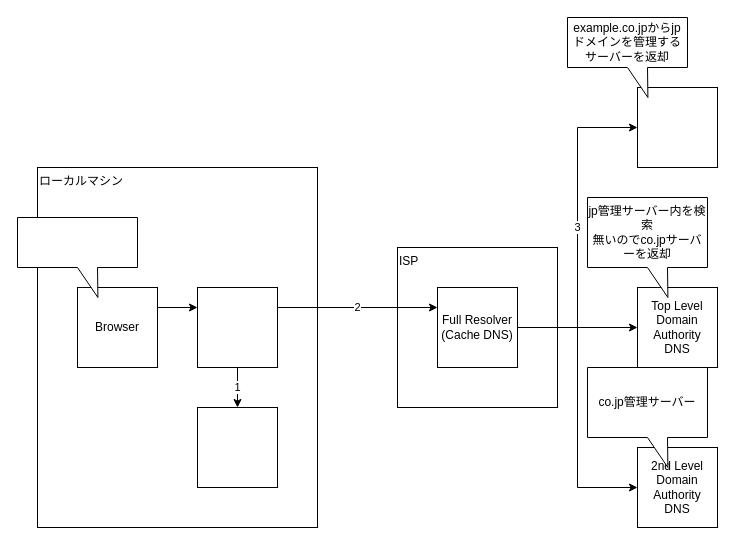
Some shapes in this 735 by 545 pixel diagram are drawn without their labels. The centre of each missing label's shape, as x and y in pixels:
"DNS Cache" belongs at pixel 237 447.
"example.co.jpを名前解決してIPアドレスを割り出したい" belongs at pixel 77 257.
"Root Authority DNS x13" belongs at pixel 677 127.
"Stub Resolver" belongs at pixel 237 327.
